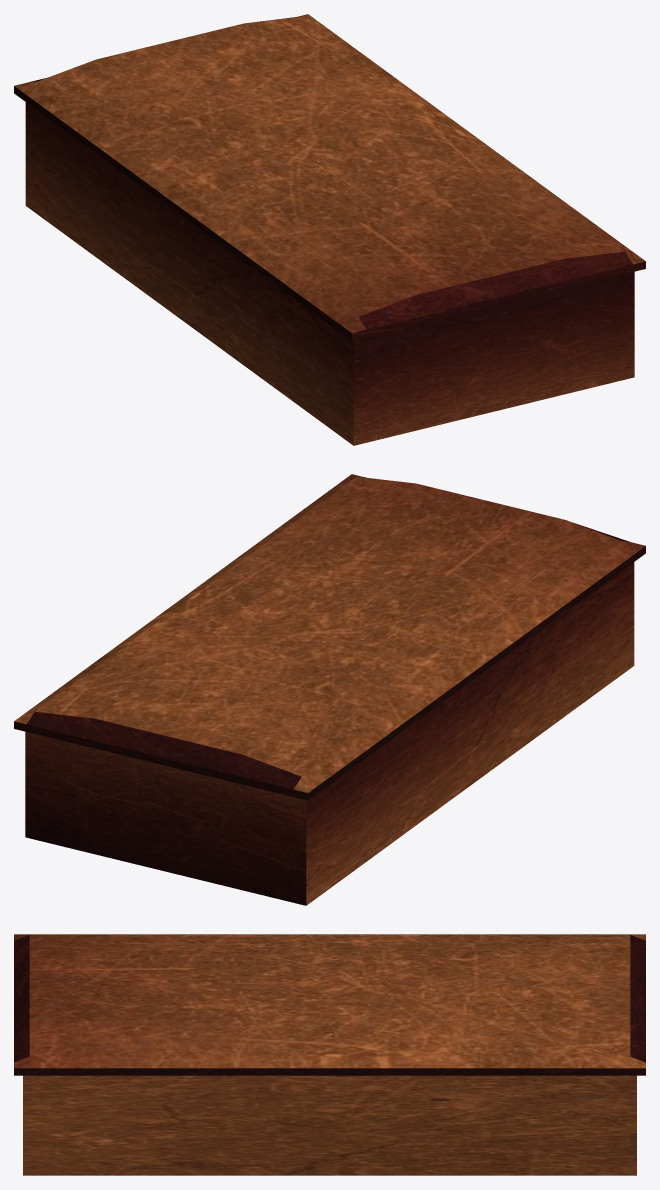
The model's file is StoneCoffin.fbx.
3 views of the same model, one above another, from view 1: azimuth 30°, elevation 25°; view 2: azimuth 150°, elevation 25°; view 3: azimuth 270°, elevation 25° (orthographic). The views are drawn at different scales.
Visible parts, largest first — view 1: Cube; view 2: Cube; view 3: Cube.
Part boxes in pixels (bbox=[...]): Cube: bbox=[14, 14, 645, 445]; Cube: bbox=[14, 474, 645, 905]; Cube: bbox=[14, 934, 645, 1175].
Size of the model in its own units: 415 by 179 by 826.
